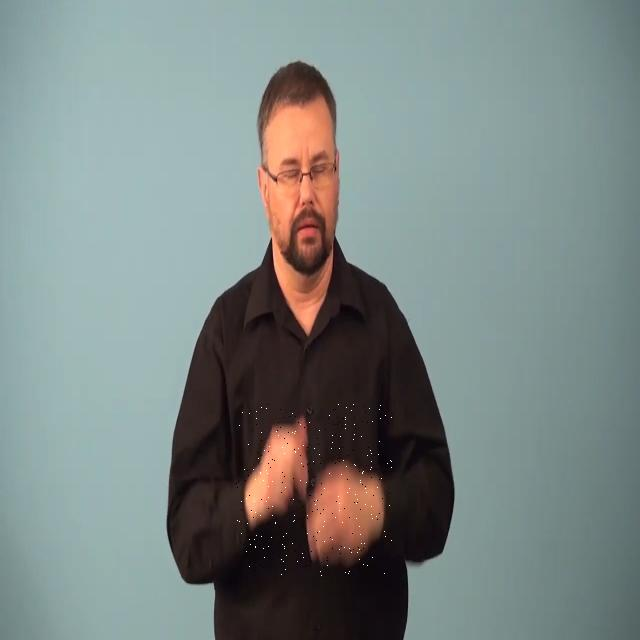juicy: (236, 403, 392, 579)
